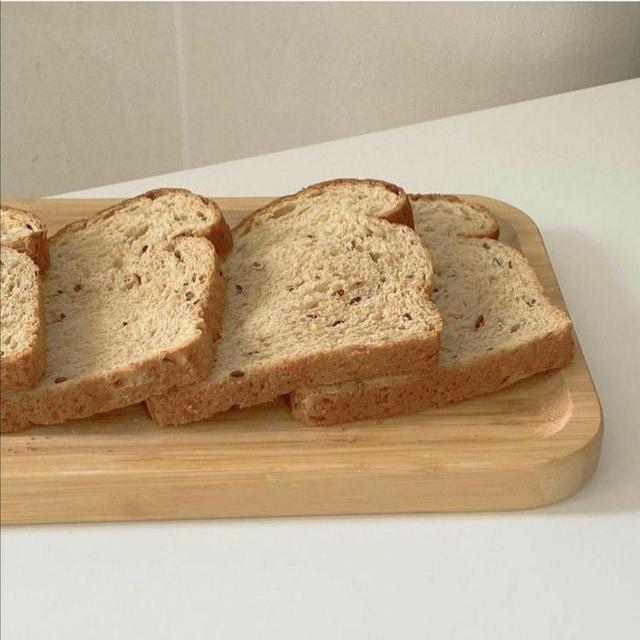sliced_bread: (147, 180, 441, 425), (290, 201, 573, 424), (1, 189, 231, 430), (0, 246, 44, 393), (409, 194, 498, 246), (0, 205, 48, 272)
